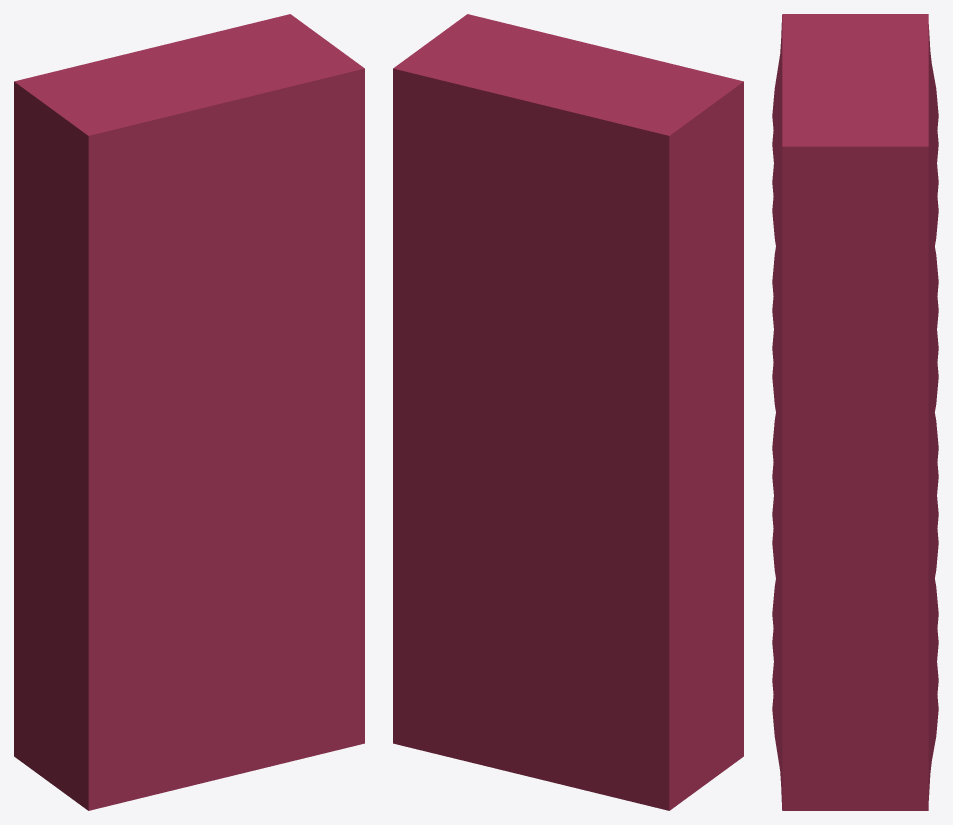
File: castle_gate_door_3x7m.glb
The picture shows the model from 3 angles, left to right: view 1: azimuth 30°, elevation 25°; view 2: azimuth 150°, elevation 25°; view 3: azimuth 270°, elevation 25°; orthographic projection.
Visible parts, largest first — view 1: GateDoor3x7m; view 2: GateDoor3x7m; view 3: GateDoor3x7m.
Boxes of the visible parts, left/top/right/bottom form: GateDoor3x7m: left=14, top=14, right=364, bottom=810; GateDoor3x7m: left=393, top=14, right=743, bottom=810; GateDoor3x7m: left=772, top=14, right=938, bottom=810.
Bounding box in the file's own units: 3.15 × 7.14 × 1.59.
